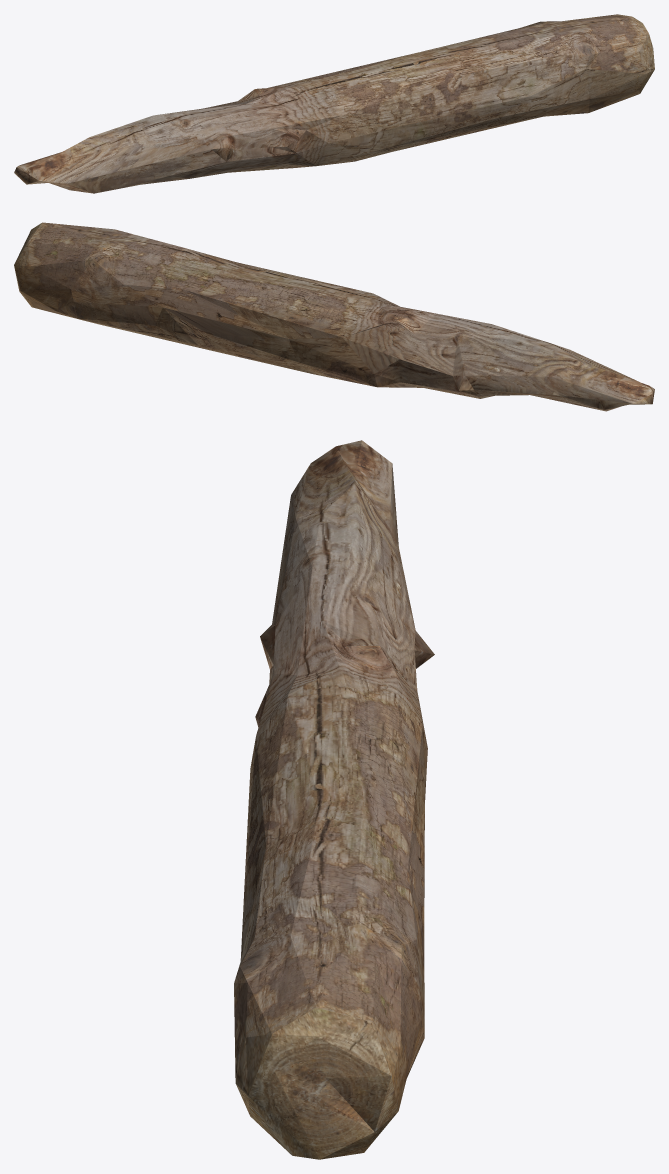
The model's file is Wood log.fbx.
The picture shows the model from 3 angles, top to bottom: view 1: azimuth 30°, elevation 25°; view 2: azimuth 150°, elevation 25°; view 3: azimuth 270°, elevation 25°; orthographic projection. The views are drawn at different scales.
Visible parts, largest first — view 1: model_0; view 2: model_0; view 3: model_0.
Part boxes in pixels (x1,y1,x2,y2): model_0: (14, 14, 654, 193); model_0: (14, 222, 654, 411); model_0: (234, 440, 434, 1159).
Size of the model in its own units: 2713 by 369 by 384.
